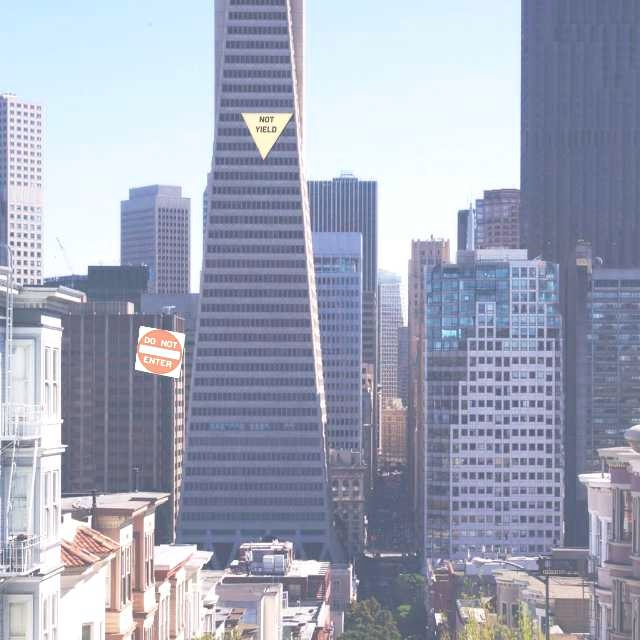DO_NOT_ENTER: (134, 325, 186, 379)
NOT_YIELD: (240, 112, 294, 161)
